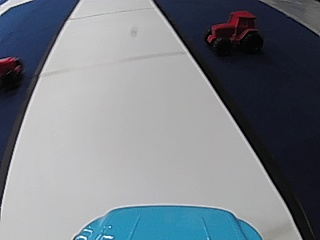tractor: (202, 9, 262, 57), (0, 55, 23, 92)
